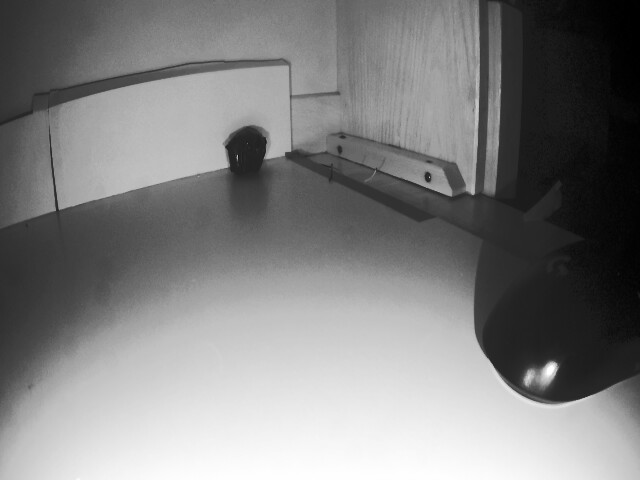silver: (222, 125, 267, 183)
